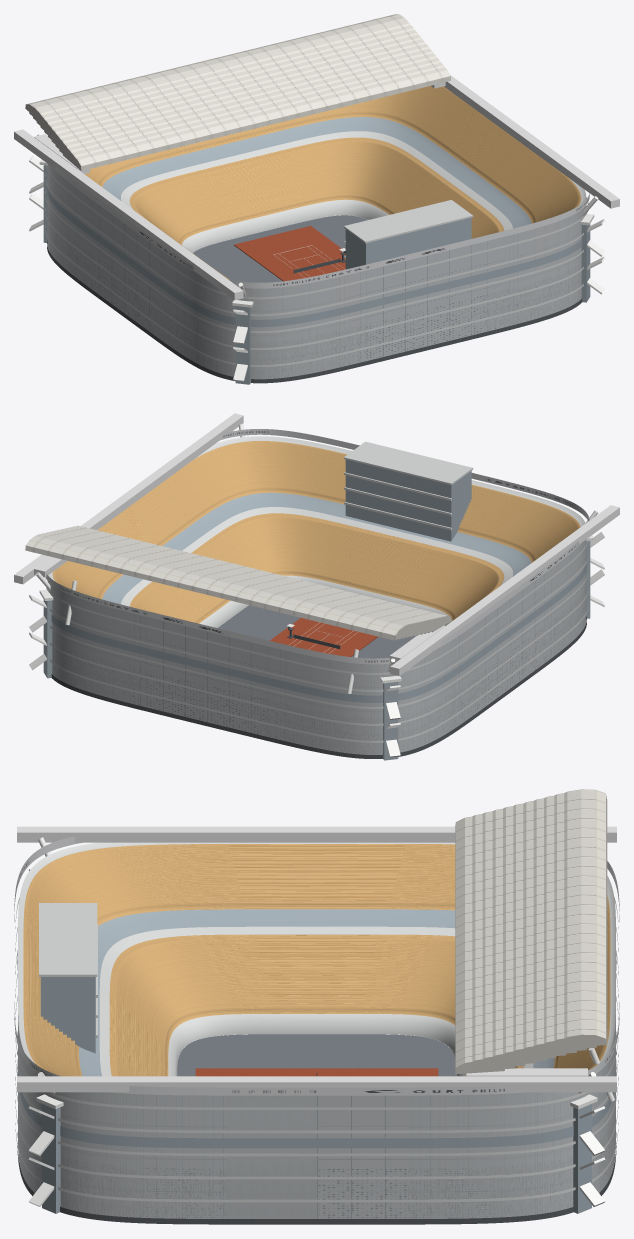
The model's file is rg_open.glb.
3 renders of one model, top to bottom at view 1: azimuth 30°, elevation 25°; view 2: azimuth 150°, elevation 25°; view 3: azimuth 270°, elevation 25°, orthographic. The views are drawn at different scales.
Visible parts, largest first — view 1: Bowl, Facade, Wing0, Wing10, GlassStrip, CourtSlab, Runway, Apron, Fascia, MediaBlock, Runway.001, MediaRoof (+17 smaller); view 2: Bowl, Facade, Wing10, MediaBlock, Fascia, GlassStrip, Runway, Runway.001, MediaRoof, Plinth, Apron, CourtSlab (+17 smaller); view 3: Bowl, Facade, Wing10, Apron, Runway.001, Runway, GlassStrip, Wing0, Fascia, MediaRoof, Plinth, MediaBlock (+18 smaller).
Part boxes in pixels (box(x1,y1,x2,y2)): Bowl: box(84, 86, 586, 279); Facade: box(47, 164, 586, 379); Wing0: box(63, 67, 450, 170); Wing10: box(25, 14, 410, 118); GlassStrip: box(47, 181, 582, 327); CourtSlab: box(234, 226, 345, 281); Runway: box(14, 129, 243, 300); Apron: box(193, 215, 367, 282); Fascia: box(53, 165, 589, 288); MediaBlock: box(345, 217, 471, 269); Runway.001: box(444, 75, 619, 208); MediaRoof: box(344, 200, 473, 243); Bowl: box(48, 436, 585, 627); Facade: box(47, 540, 586, 754); Wing10: box(25, 534, 413, 640); MediaBlock: box(345, 459, 471, 541); Fascia: box(45, 429, 589, 664); GlassStrip: box(51, 557, 586, 702); Runway: box(390, 505, 619, 676); Runway.001: box(14, 413, 243, 584); MediaRoof: box(344, 441, 473, 485); Plinth: box(51, 616, 586, 758); Apron: box(217, 605, 416, 658); CourtSlab: box(269, 618, 378, 656); Bowl: box(18, 842, 615, 1076); Facade: box(18, 1015, 615, 1218); Wing10: box(557, 789, 607, 1047); Apron: box(177, 1034, 456, 1076); Runway.001: box(17, 1076, 616, 1092); Runway: box(17, 826, 616, 842); GlassStrip: box(17, 954, 616, 1148); Wing0: box(455, 816, 504, 1074); Fascia: box(14, 836, 619, 1095); MediaRoof: box(39, 903, 97, 976); Plinth: box(17, 1032, 616, 1224); MediaBlock: box(40, 977, 95, 1053).
Size of the model in its own units: 111 by 36.76 by 110.
11 materials, 5 textured.
